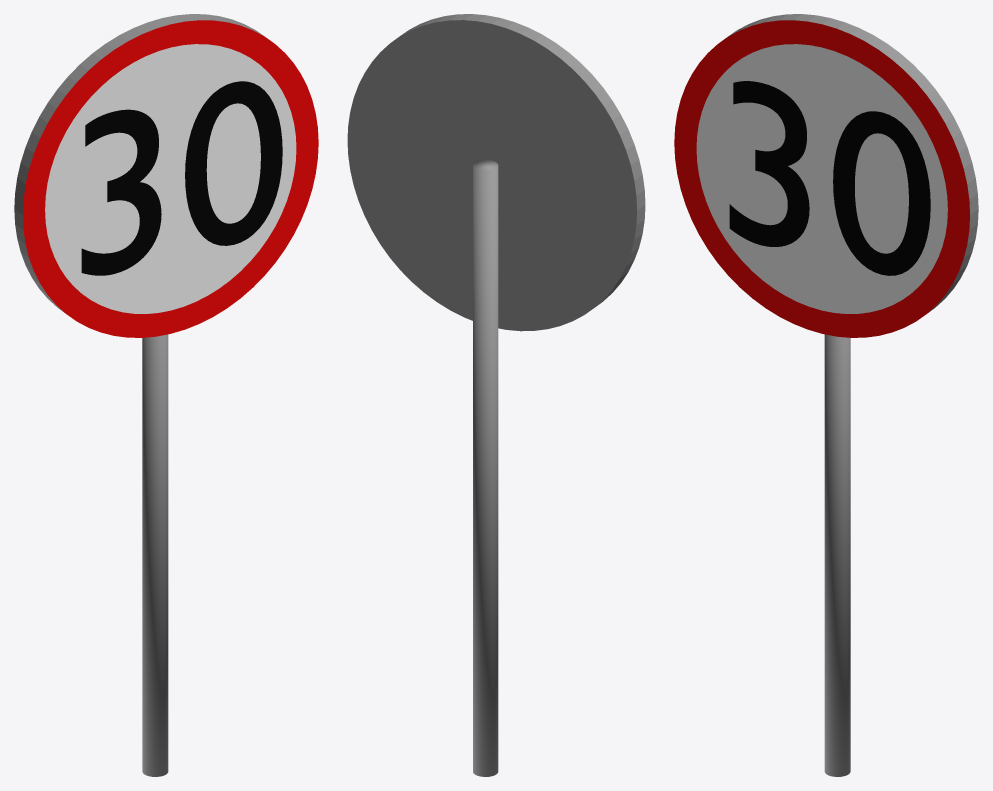
Rendered from speed_limit_sign_30.dae.
3 views of the same model, side by side, from view 1: azimuth 30°, elevation 25°; view 2: azimuth 150°, elevation 25°; view 3: azimuth 330°, elevation 25° (orthographic). The views are drawn at different scales.
Visible parts, largest first — view 1: Cylinder.001, Cylinder; view 2: Cylinder.001, Cylinder; view 3: Cylinder.001, Cylinder.
Boxes of the visible parts, <box> form: Cylinder.001: <box>14,14,318,337</box>; Cylinder: <box>142,334,168,776</box>; Cylinder.001: <box>347,14,645,331</box>; Cylinder: <box>473,160,498,776</box>; Cylinder.001: <box>674,14,978,337</box>; Cylinder: <box>824,334,850,776</box>.
Size of the model in its own units: 1 by 0.138 by 2.45.
